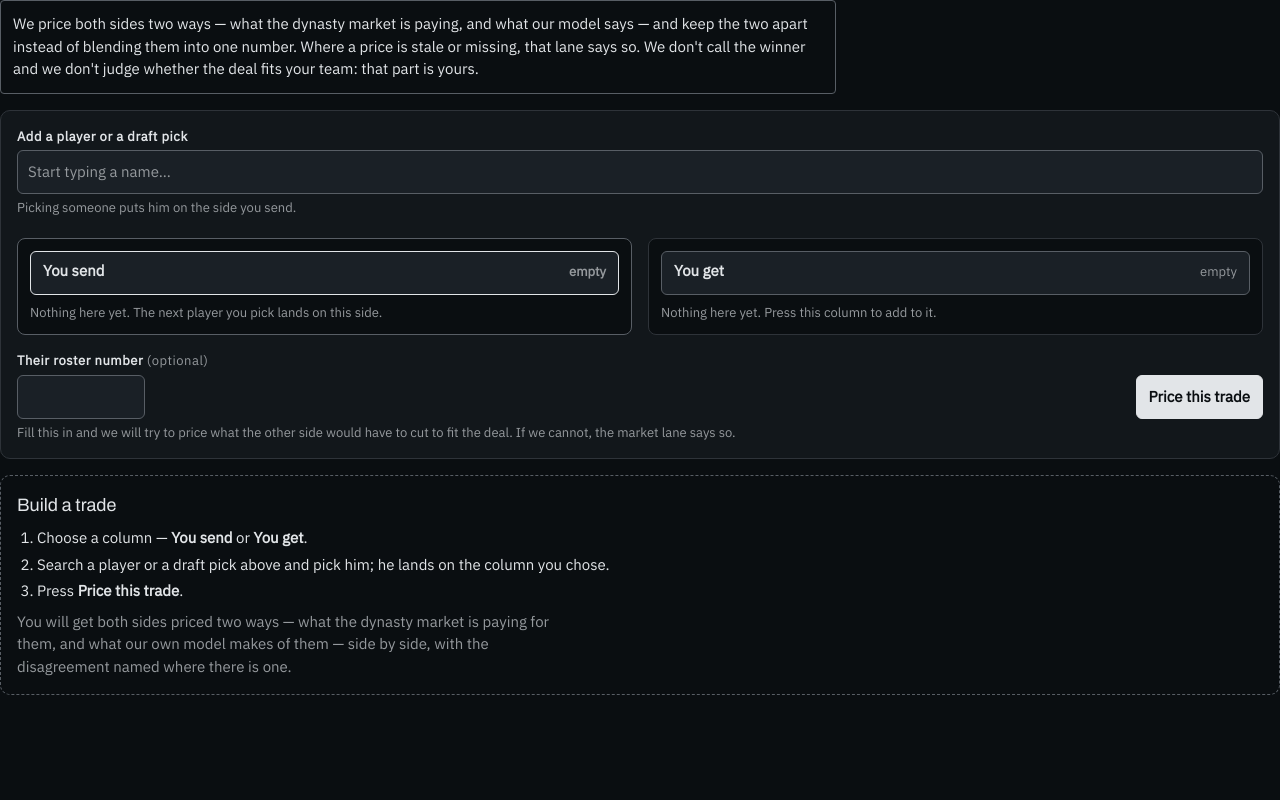
Test case: Trade Lab — both prices, plainly › lists the assets on BOTH sides of the market lane, not the sent side only
Type "cha" into the search field at (640,172), box [17,150,1263,194]
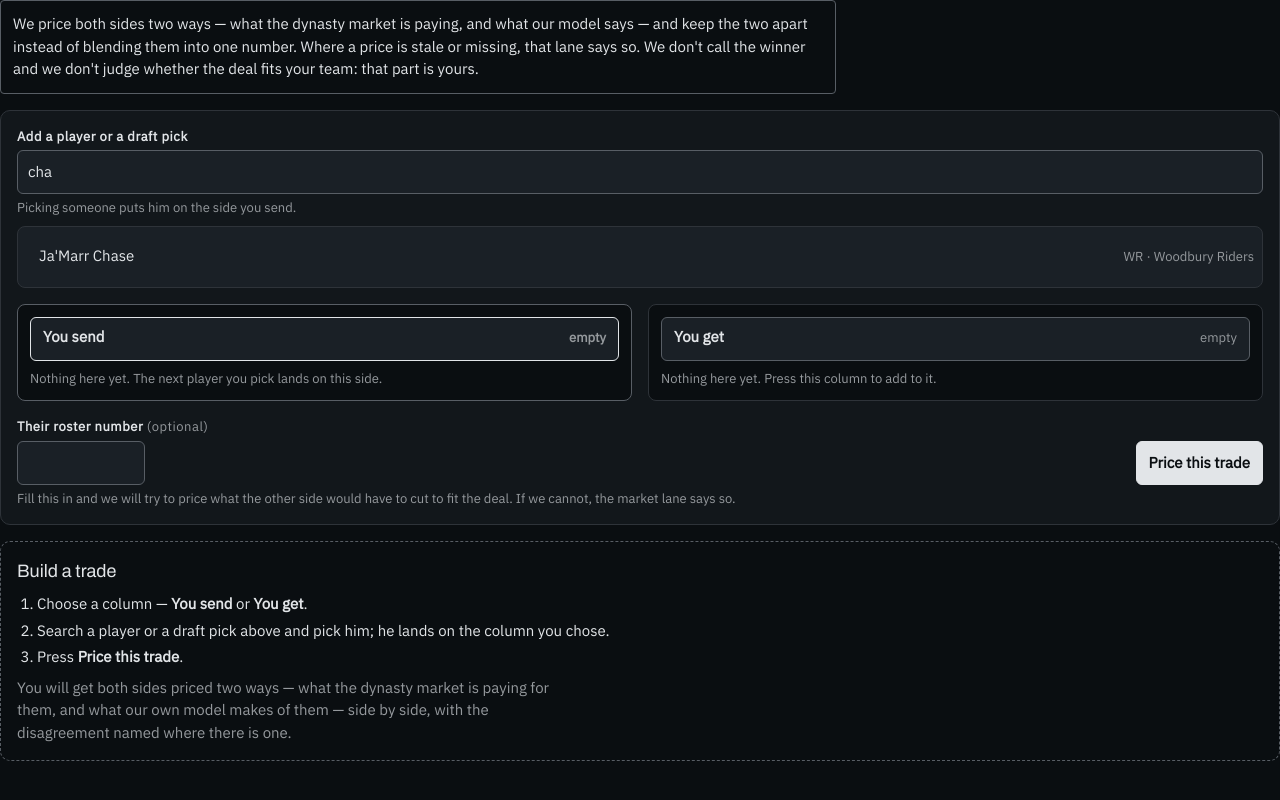
Click the button "Ja'Marr Chase" at (87,256), box [26,234,1116,278]
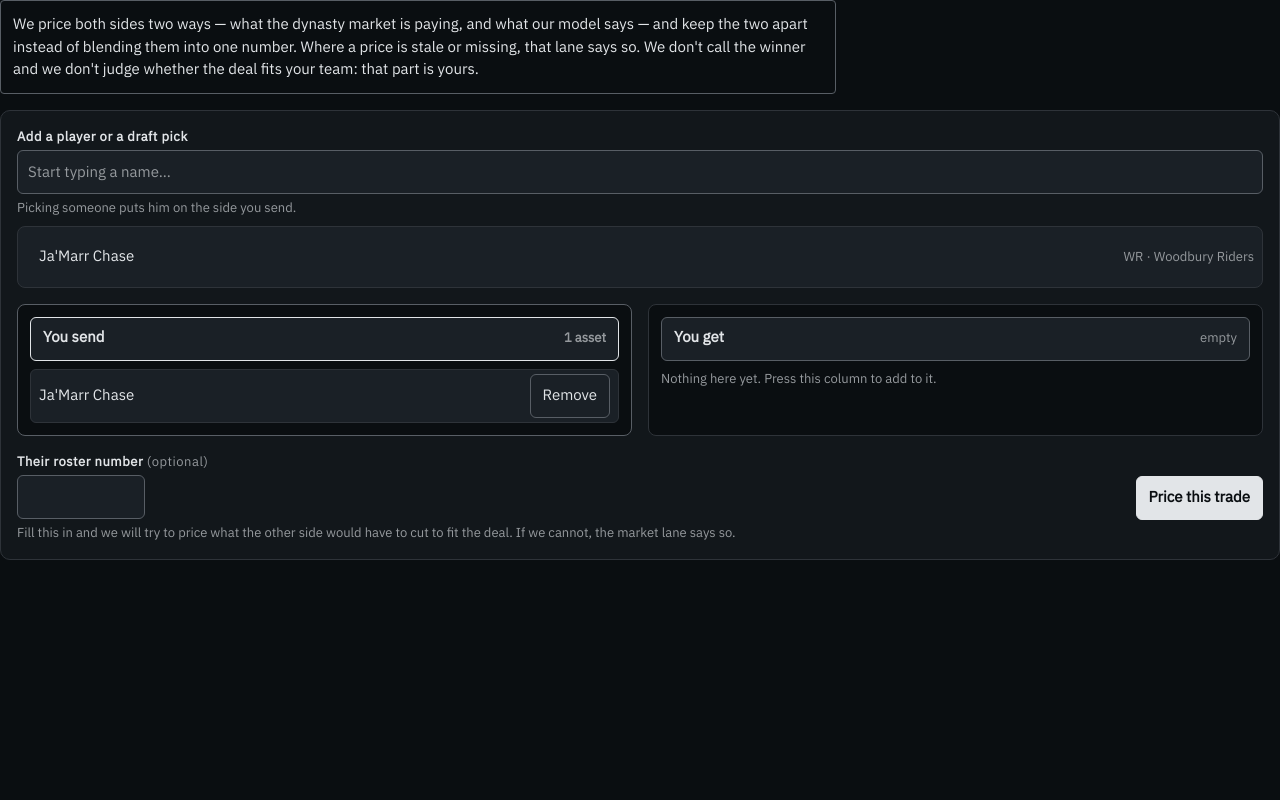
Click the button "Price this trade" at (1199,498), box [1136,476,1263,520]
(page scrolled)
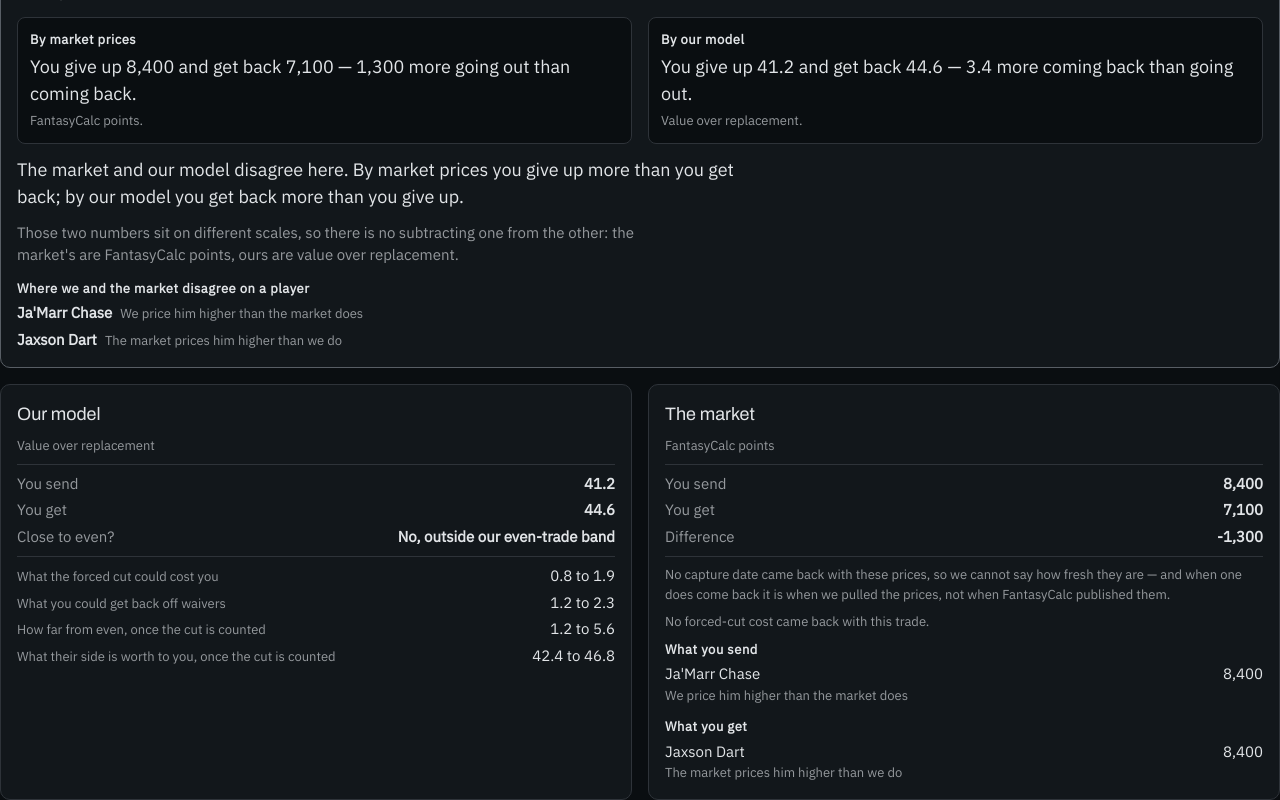
Result: the text "Ja'Marr Chase" below "What you send" is shown at [665,664,760,683]
Result: the text "Jaxson Dart" below "What you get" is shown at [665,742,745,760]
